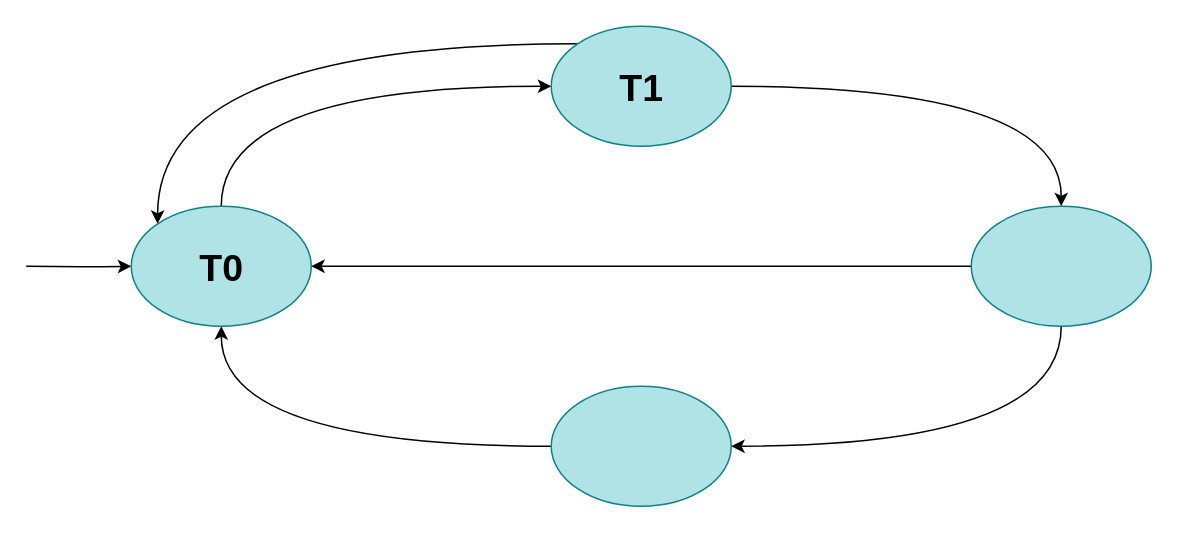
The diagram is 1178 pixels wide and 533 high, and some of its shapes have lost their labels. The box of each missing label's shape, as (x1, y1, x2, y2) in pixels:
T2: (970, 205, 1151, 326)
T3: (550, 385, 731, 506)
